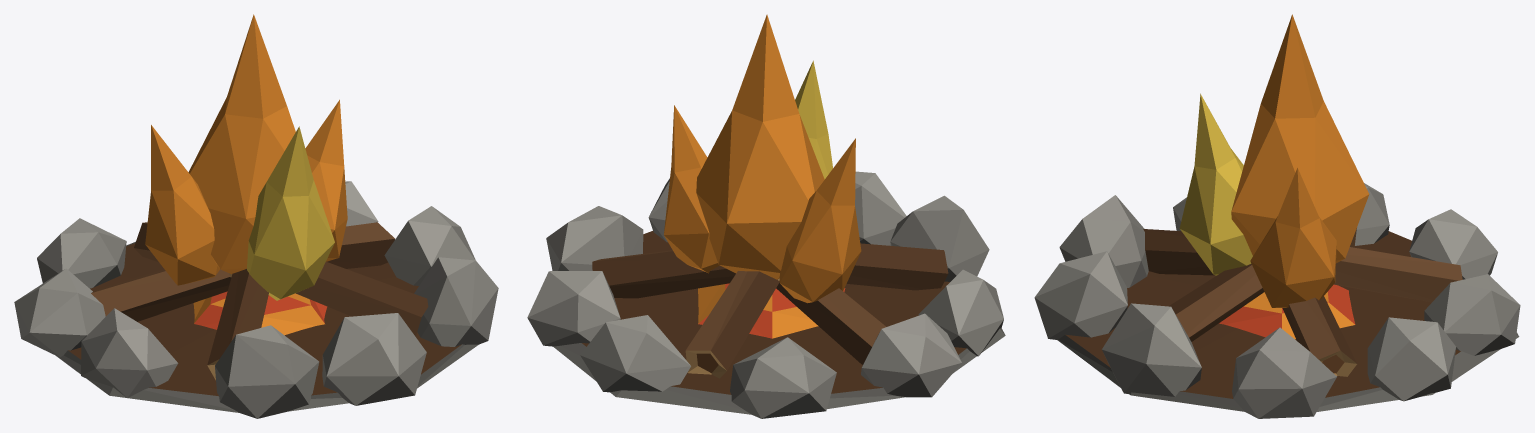
The model's file is campfire_1.glb.
3 views of the same model, side by side, from view 1: azimuth 30°, elevation 25°; view 2: azimuth 150°, elevation 25°; view 3: azimuth 270°, elevation 25° (orthographic).
Visible parts, largest first — view 1: campfire_1, flame; view 2: campfire_1, flame; view 3: campfire_1, flame.
Part boxes in pixels (box(x1,y1,x2,y2)): campfire_1: box(14, 181, 498, 418); flame: box(145, 14, 347, 300); campfire_1: box(527, 171, 1005, 418); flame: box(664, 14, 861, 303); campfire_1: box(1034, 183, 1520, 418); flame: box(1179, 14, 1369, 307).
Size of the model in its own units: 0.9436 by 0.65 by 0.9382.
